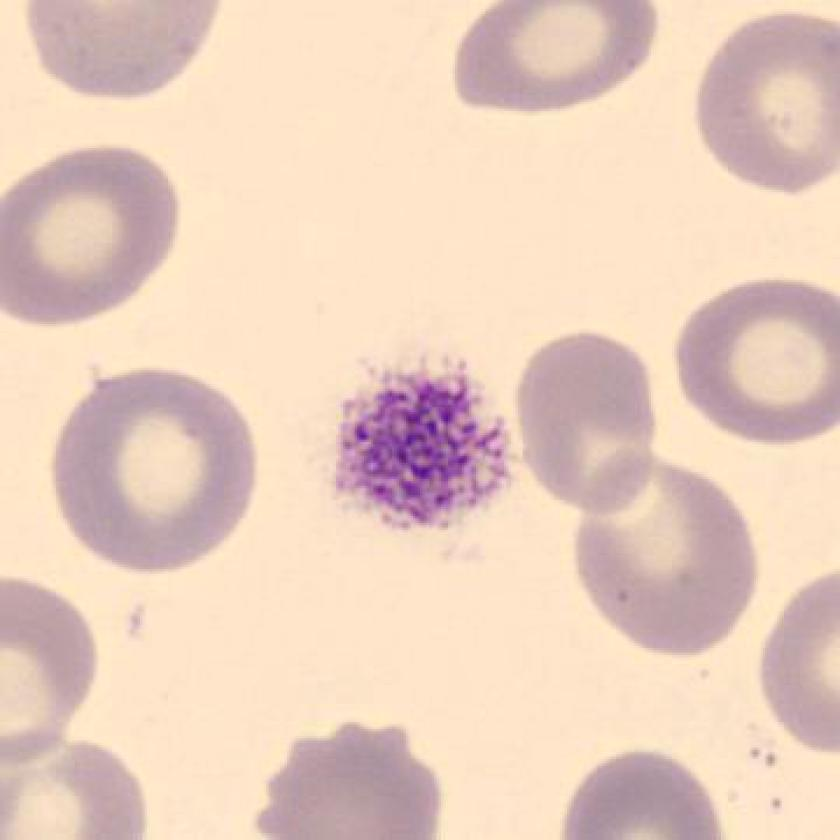platelets: (314, 344, 524, 547)
